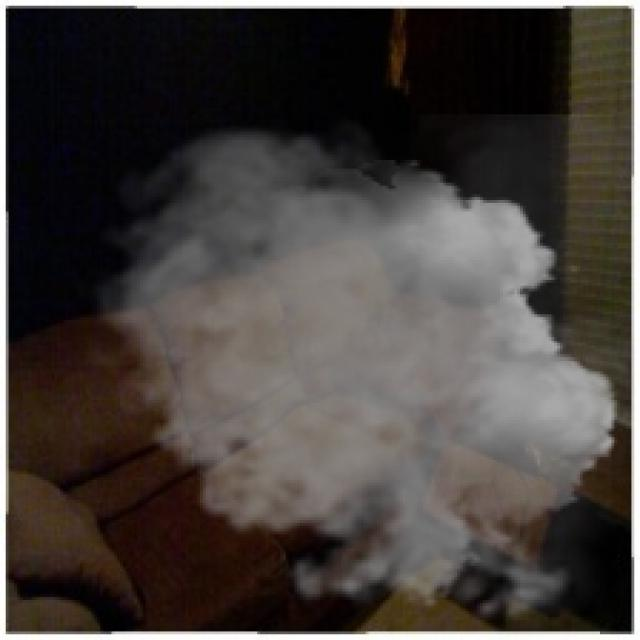smoke: (75, 114, 634, 637)
